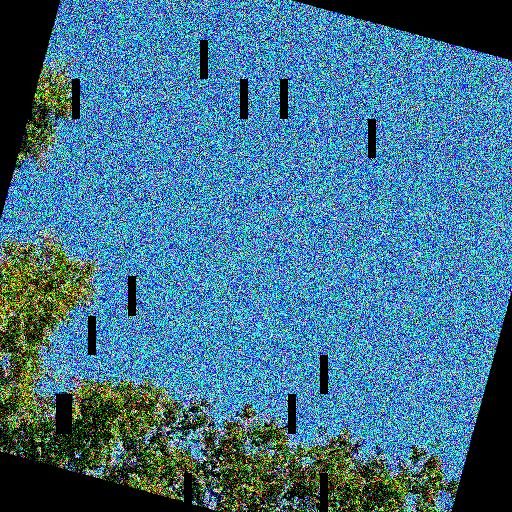tree: (1, 65, 459, 511)
